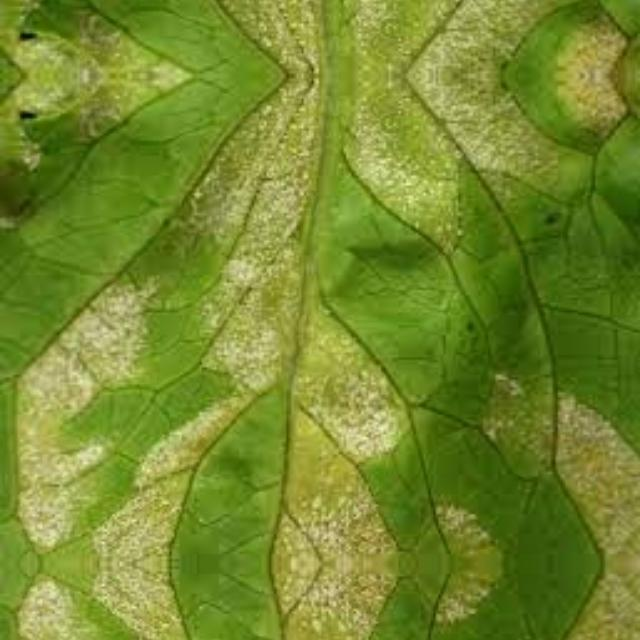Downy_mildew: (38, 131, 524, 564), (38, 563, 524, 640), (38, 0, 524, 19)
